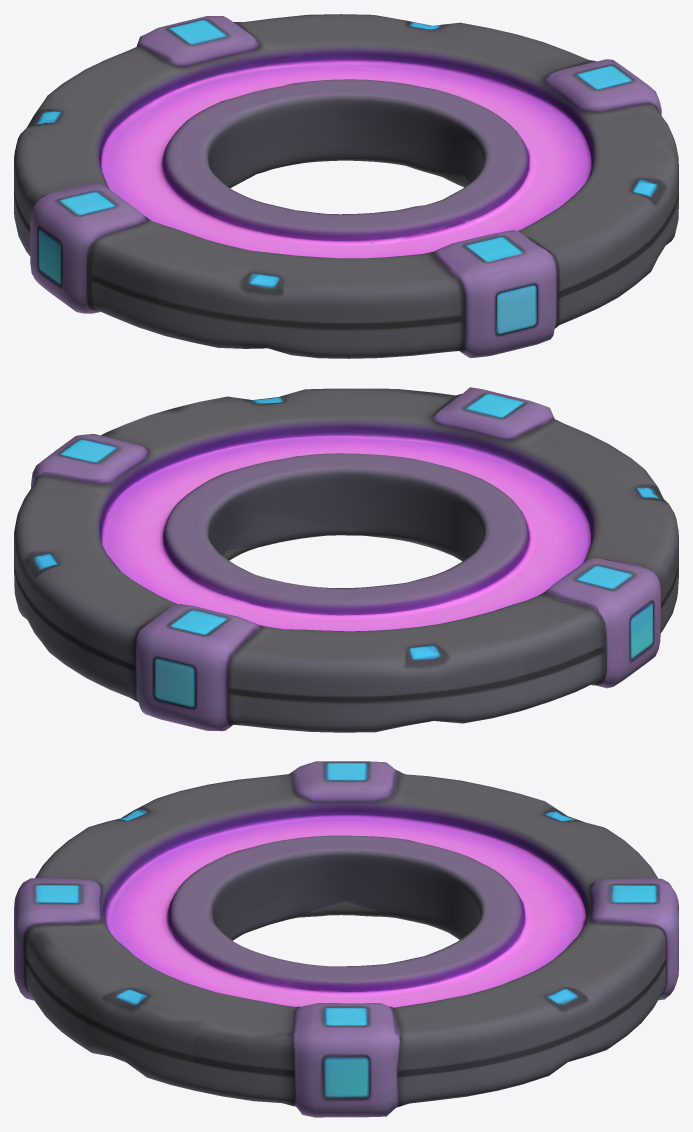
Rendered from Portal_texture.fbx.
The picture shows the model from 3 angles, top to bottom: view 1: azimuth 30°, elevation 25°; view 2: azimuth 150°, elevation 25°; view 3: azimuth 270°, elevation 25°; orthographic projection. The views are drawn at different scales.
Parts seen in each view (by area): view 1: Mesh0; view 2: Mesh0; view 3: Mesh0.
Boxes of the visible parts, x1,y1,x2,y2 form: Mesh0: (14, 14, 678, 358); Mesh0: (14, 387, 678, 732); Mesh0: (14, 761, 678, 1117).
Bounding box in the file's own units: 193 × 28.93 × 193.
1 material, 1 textured.
